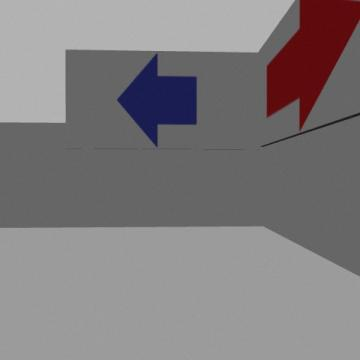blue_left: (118, 54, 196, 146)
red_right: (267, 0, 359, 130)
